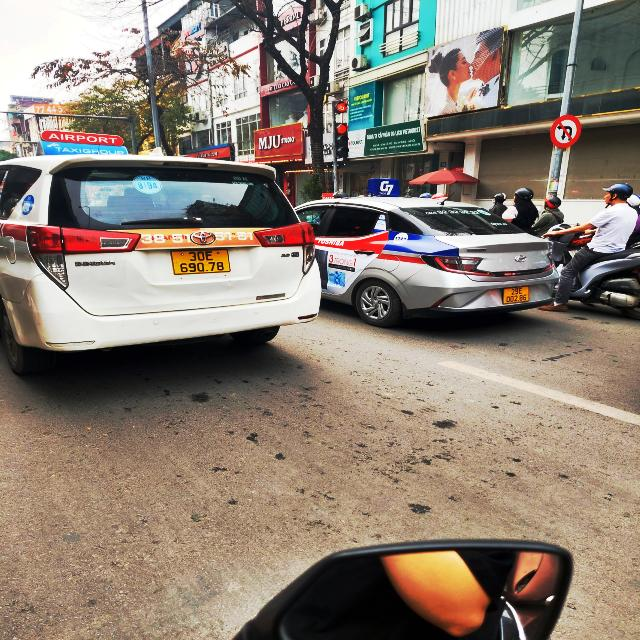license_plate: (173, 250, 233, 275), (503, 286, 529, 305)
